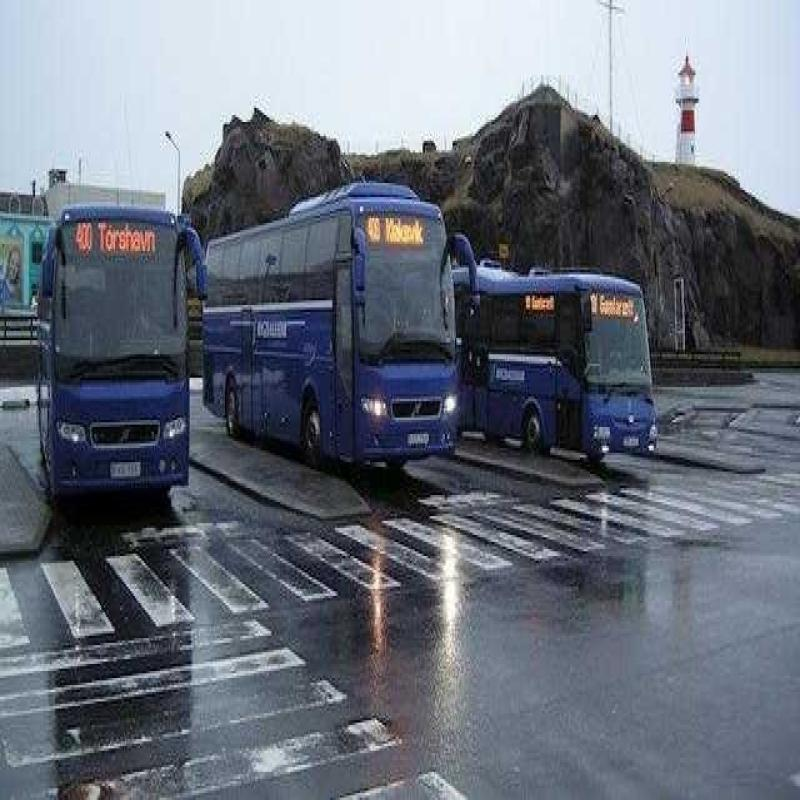bus: (224, 197, 470, 453), (46, 165, 200, 486), (491, 248, 664, 483)
